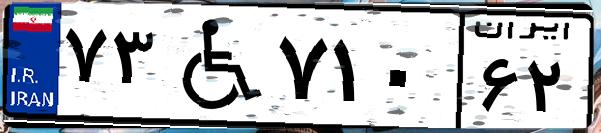0: (385, 28, 445, 110)
1: (330, 28, 385, 110)
2: (525, 38, 570, 115)
3: (110, 28, 158, 98)
6: (475, 38, 525, 113)
7: (270, 28, 330, 110), (57, 26, 110, 100)
ژ (معلولین و جانبازان): (158, 12, 270, 120)
